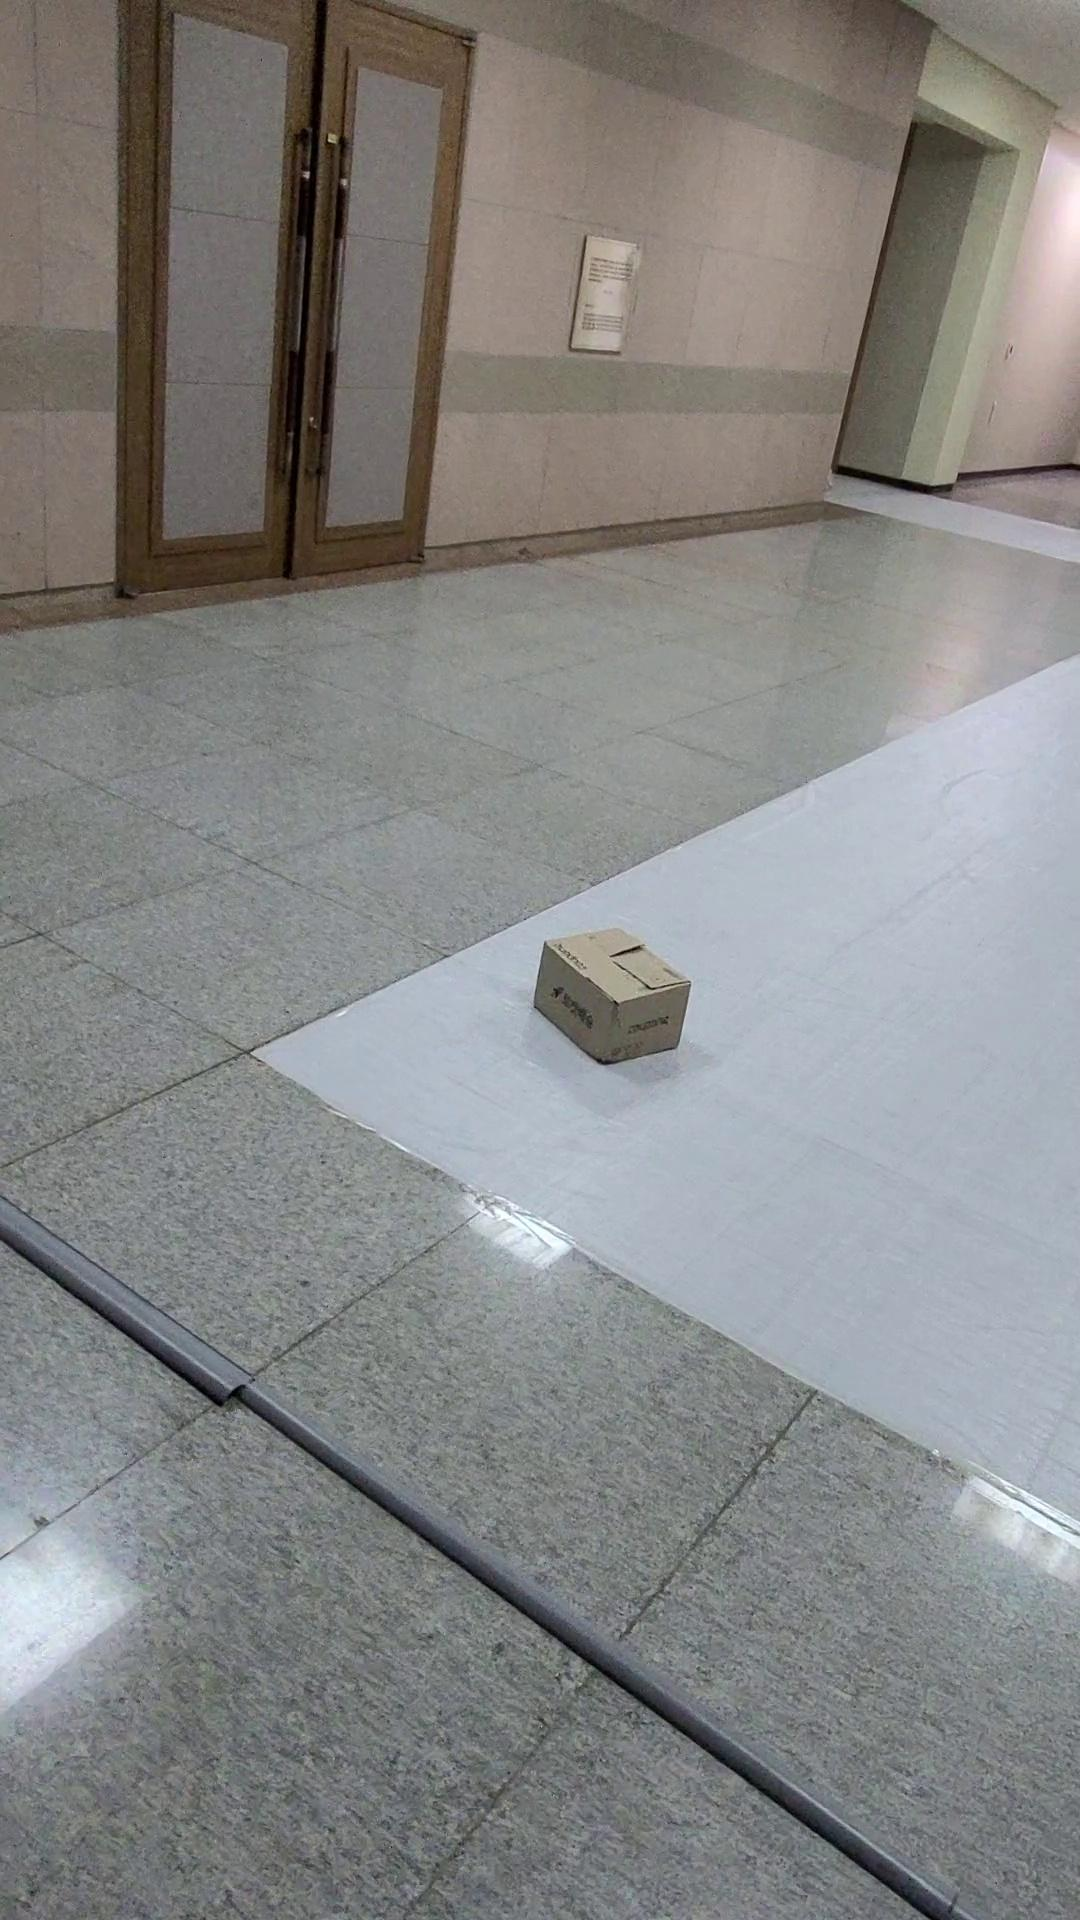Box: (527, 885, 723, 1106)
